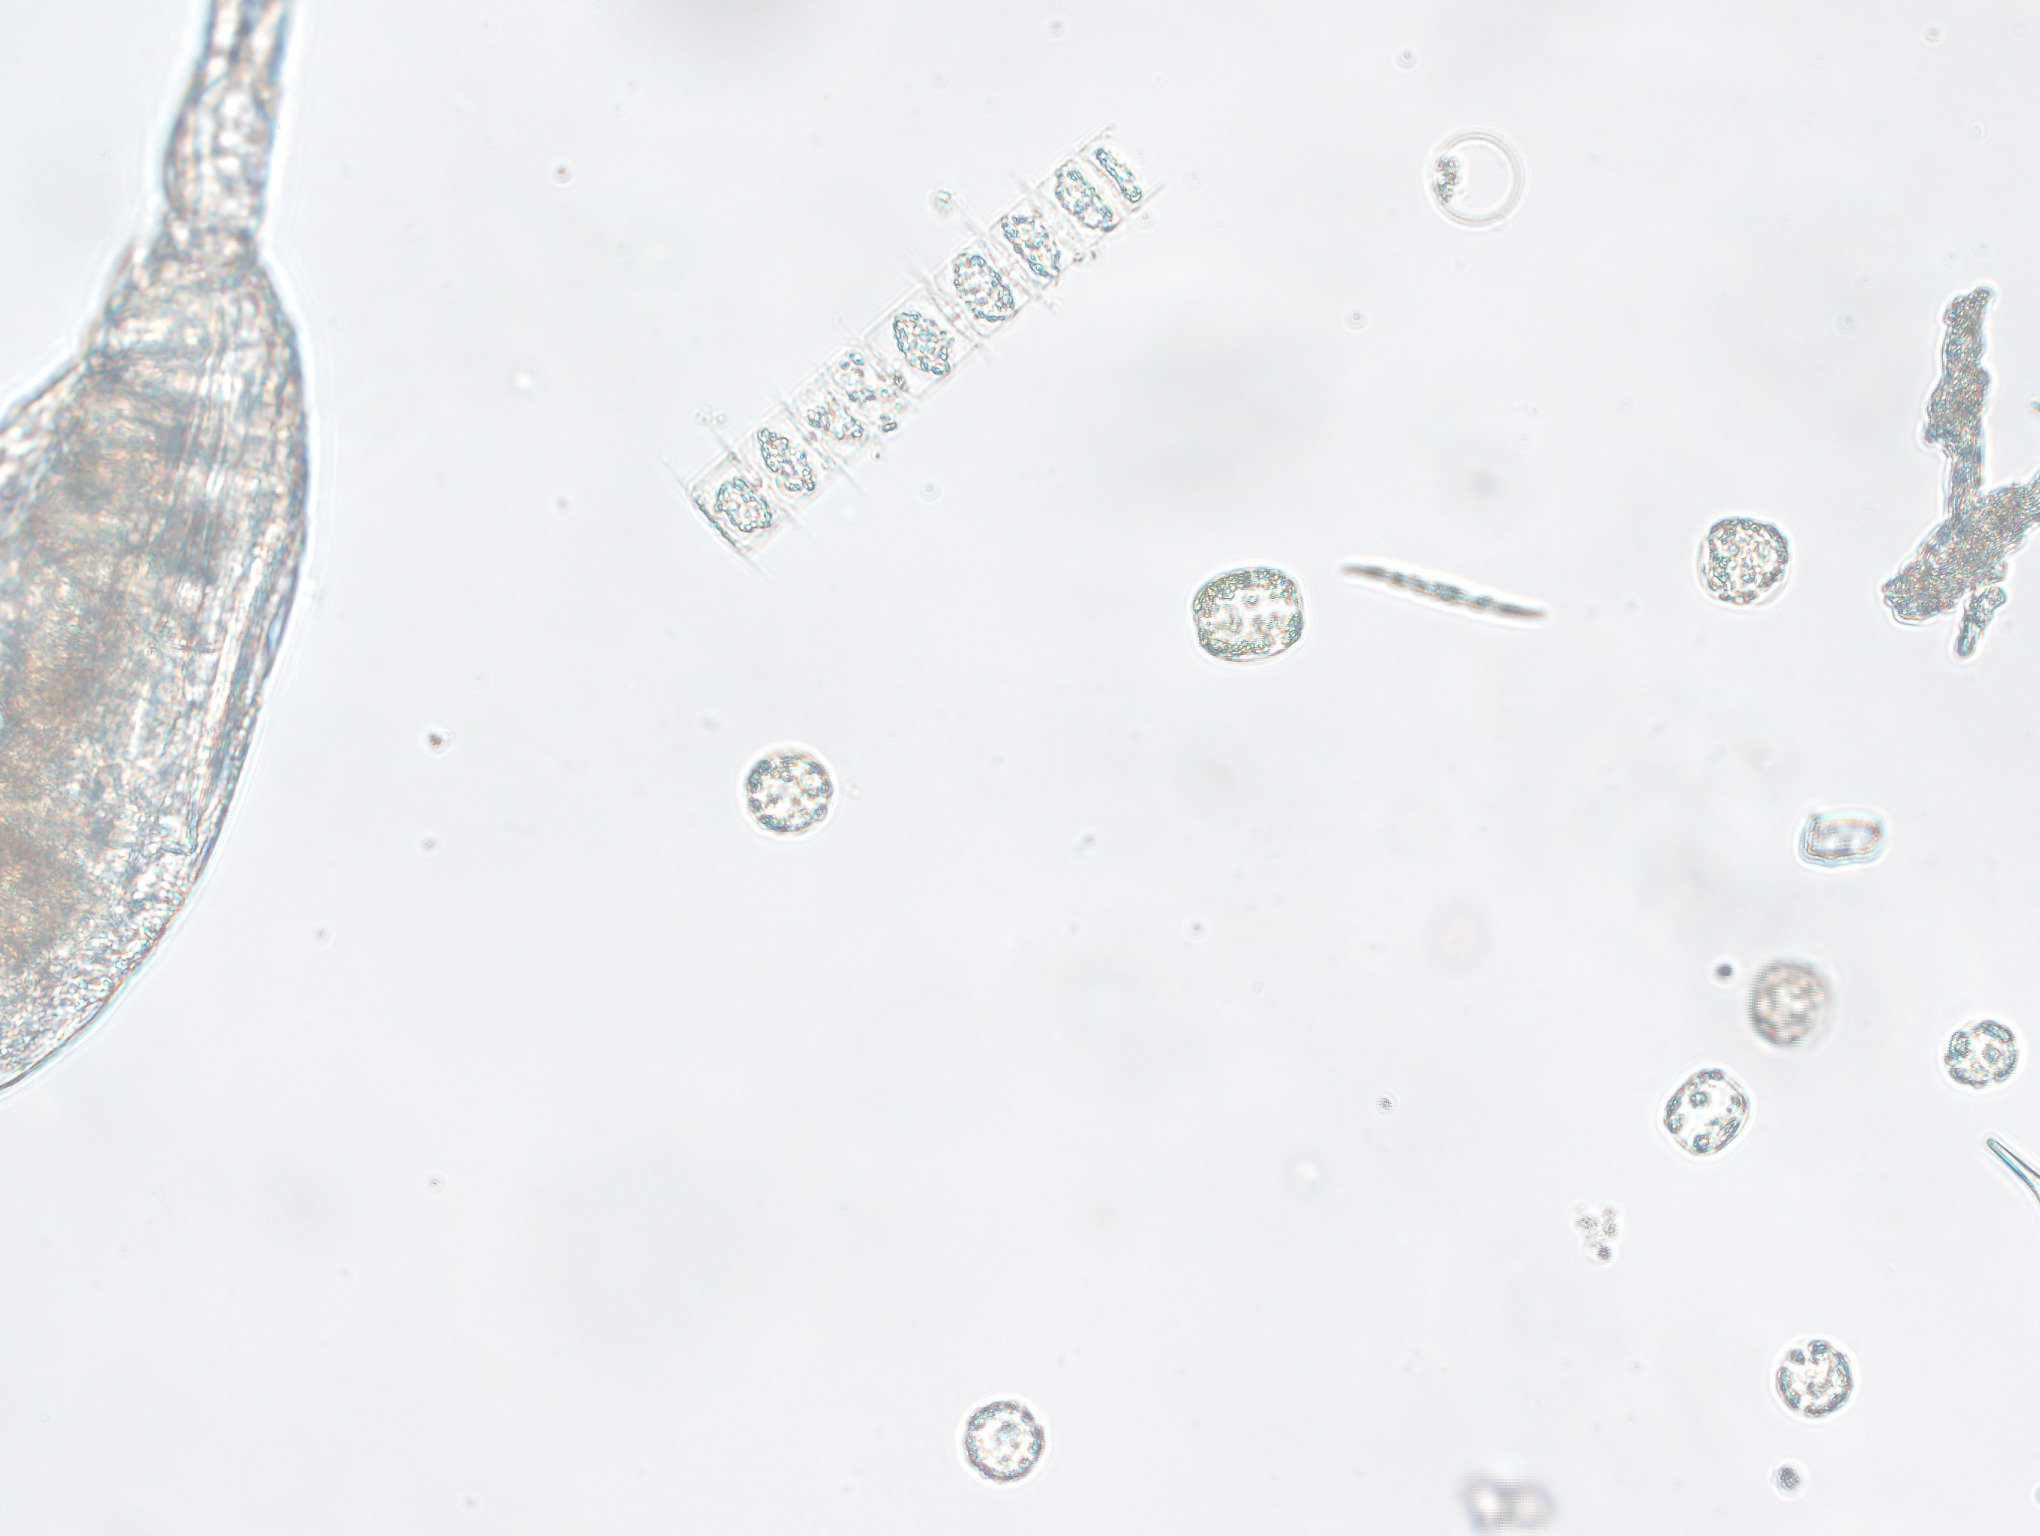chaetoceros: (652, 94, 1177, 579)
pleurosigma pelagicum: (1342, 549, 1550, 644)
